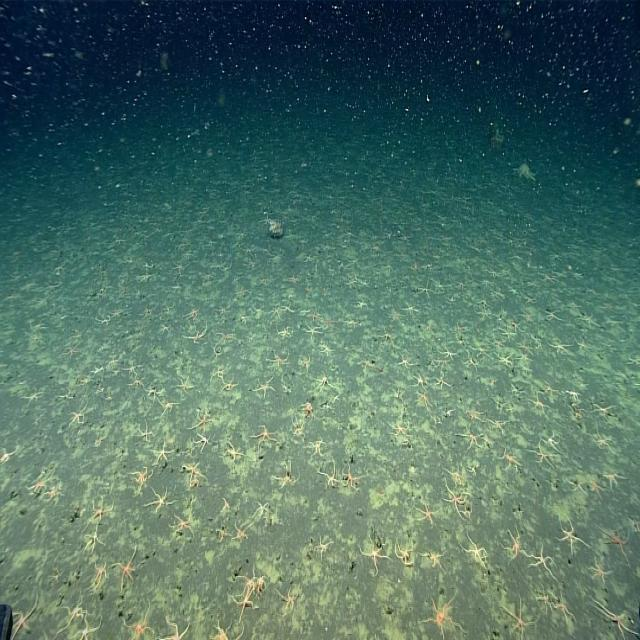brittle-stars: (590, 596, 640, 639), (595, 523, 634, 562), (422, 598, 460, 636), (51, 595, 84, 638), (122, 600, 155, 640), (110, 549, 139, 589), (503, 596, 531, 636), (358, 534, 386, 573), (80, 501, 116, 531), (460, 530, 490, 566), (12, 599, 40, 637), (556, 519, 584, 555), (530, 544, 558, 580), (69, 616, 104, 640), (442, 484, 468, 516), (500, 530, 524, 563), (144, 491, 176, 514), (529, 439, 555, 467), (158, 620, 194, 640), (130, 466, 152, 497), (182, 462, 207, 489), (273, 463, 300, 488), (166, 514, 194, 538), (317, 460, 340, 489), (276, 586, 300, 612), (232, 594, 258, 618), (456, 427, 483, 450), (24, 474, 55, 494), (253, 425, 277, 449), (416, 502, 440, 526), (341, 466, 366, 489), (184, 322, 208, 345), (419, 550, 445, 570), (589, 556, 609, 582), (590, 429, 612, 452), (395, 543, 416, 567), (84, 528, 102, 556), (185, 414, 212, 432), (66, 406, 90, 426), (252, 378, 274, 399), (90, 563, 107, 589), (386, 421, 410, 439), (444, 465, 466, 484), (540, 433, 562, 452), (226, 442, 243, 466), (501, 448, 518, 472), (266, 352, 291, 368), (314, 537, 334, 557), (46, 481, 62, 506), (602, 472, 625, 489), (193, 432, 212, 452), (154, 442, 172, 463), (172, 375, 193, 393), (210, 362, 228, 383), (529, 393, 547, 414), (308, 439, 327, 458), (396, 353, 417, 370), (232, 523, 253, 540), (594, 403, 615, 420), (214, 524, 232, 543), (182, 304, 200, 323), (61, 341, 79, 360), (289, 416, 305, 437), (463, 408, 487, 422), (547, 342, 572, 355), (314, 374, 332, 392), (415, 391, 432, 410), (567, 478, 587, 494), (376, 332, 398, 346), (301, 403, 318, 421), (24, 390, 42, 407), (68, 328, 86, 345), (542, 309, 562, 324), (568, 408, 591, 421), (140, 423, 154, 444), (588, 478, 602, 499), (433, 373, 450, 390), (489, 419, 508, 434), (93, 430, 107, 450), (462, 355, 478, 372), (574, 336, 591, 352), (125, 362, 142, 378), (439, 346, 457, 361), (491, 332, 506, 350), (516, 339, 534, 354), (305, 325, 325, 338), (0, 447, 16, 463), (318, 342, 334, 358), (255, 501, 270, 518), (222, 376, 237, 393), (148, 387, 162, 405), (390, 385, 404, 403), (416, 282, 433, 296), (509, 381, 524, 396), (565, 388, 581, 402), (578, 314, 596, 326), (499, 354, 514, 368), (358, 358, 374, 371), (478, 305, 490, 322), (162, 403, 180, 414), (299, 356, 313, 370), (278, 326, 292, 340), (461, 506, 474, 521), (218, 331, 234, 343), (544, 384, 556, 400), (412, 374, 424, 390), (269, 306, 280, 322), (105, 355, 118, 368), (252, 304, 265, 317), (280, 302, 294, 314), (388, 310, 402, 322), (452, 323, 466, 335), (404, 303, 417, 315), (444, 405, 457, 417), (129, 378, 144, 388), (344, 318, 359, 328), (221, 499, 232, 512), (215, 306, 228, 317), (211, 349, 223, 359), (282, 384, 292, 396), (98, 316, 110, 326), (627, 357, 640, 366), (356, 299, 367, 309)
